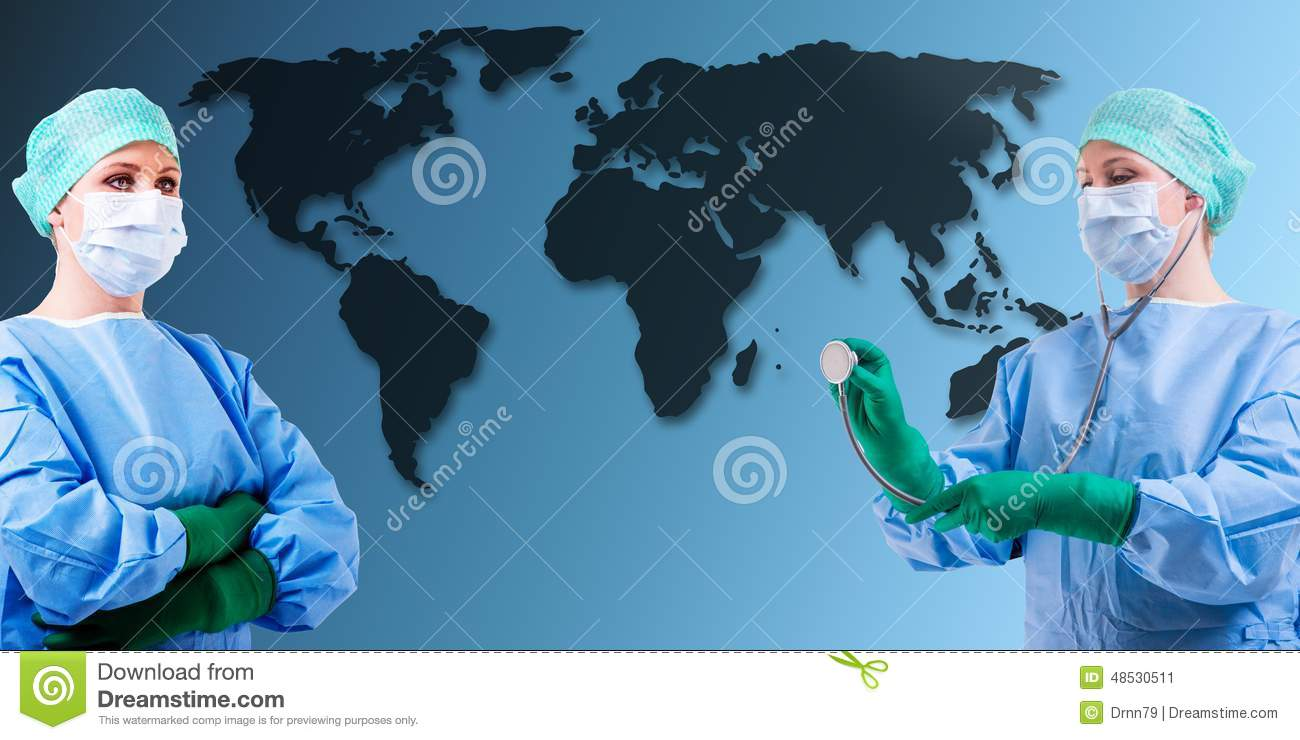mask: (77, 196, 188, 298), (1067, 185, 1178, 279)
